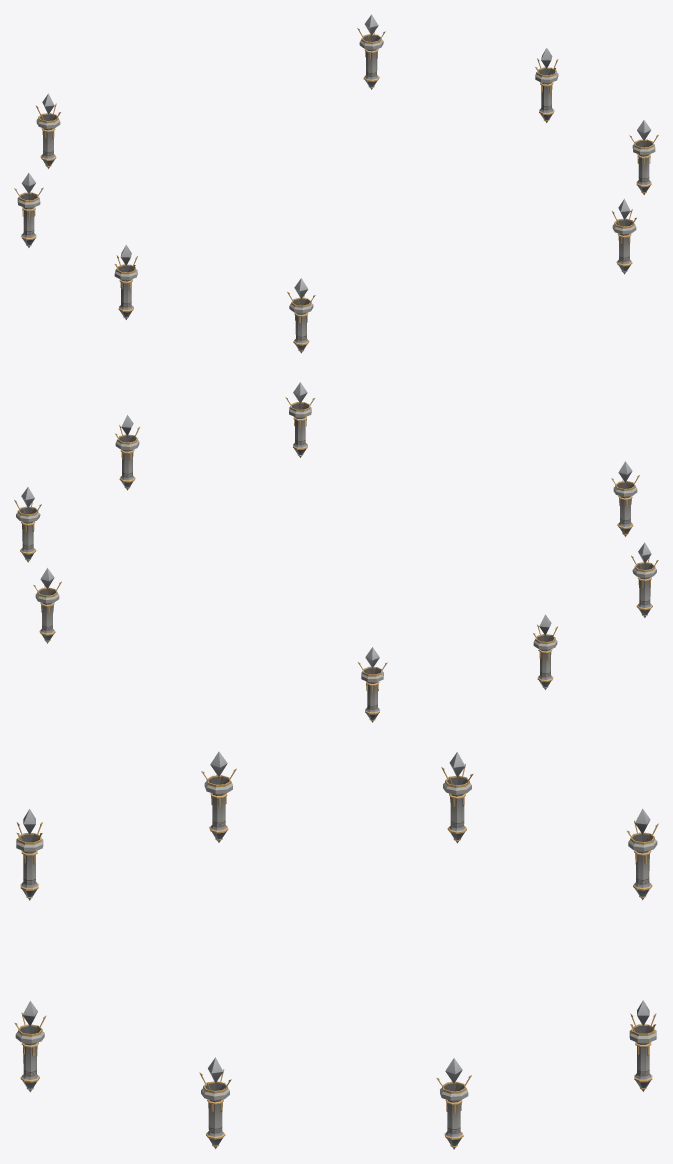
The model's file is column.FBX.
3 renders of one model, top to bottom at view 1: azimuth 30°, elevation 25°; view 2: azimuth 150°, elevation 25°; view 3: azimuth 270°, elevation 25°, orthographic. The views are drawn at different scales.
Visible parts, largest first — view 1: Object167, Object165, Object157, Object166, Object011, Object156, Object168, Object159; view 2: Object159, Object168, Object157, Object167, Object011, Object166, Object165, Object156; view 3: Object157, Object167, Object156, Object165, Object168, Object159, Object011, Object166.
Boxes of the visible parts, x1,y1,x2,y2 form: Object167: [14, 187, 43, 247]; Object165: [35, 103, 60, 168]; Object157: [629, 134, 658, 194]; Object166: [287, 291, 315, 353]; Object011: [357, 28, 385, 89]; Object156: [612, 209, 636, 274]; Object168: [114, 255, 137, 319]; Object159: [535, 58, 558, 122]; Object159: [14, 499, 41, 562]; Object168: [631, 555, 658, 617]; Object157: [115, 424, 139, 490]; Object167: [533, 624, 557, 689]; Object011: [33, 581, 61, 643]; Object166: [611, 475, 639, 536]; Object165: [357, 662, 387, 722]; Object156: [285, 397, 314, 457]; Object157: [199, 1069, 231, 1148]; Object167: [441, 763, 473, 843]; Object156: [14, 1012, 46, 1092]; Object165: [627, 820, 658, 900]; Object168: [201, 768, 236, 842]; Object159: [436, 1075, 471, 1149]; Object011: [629, 1013, 656, 1091]; Object166: [16, 822, 43, 900].
Bounding box in the file's own units: 3275 × 437 × 2774.
